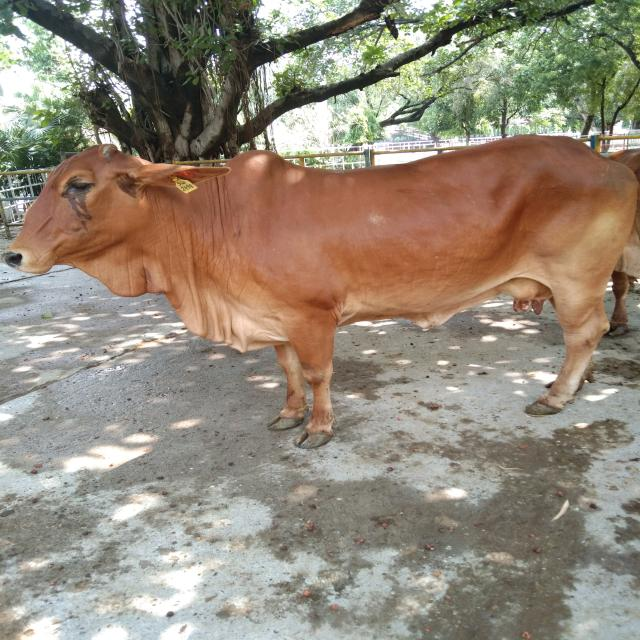1: (217, 150, 305, 166)
Hoof: (295, 428, 334, 449), (524, 399, 563, 417), (266, 414, 304, 431)
